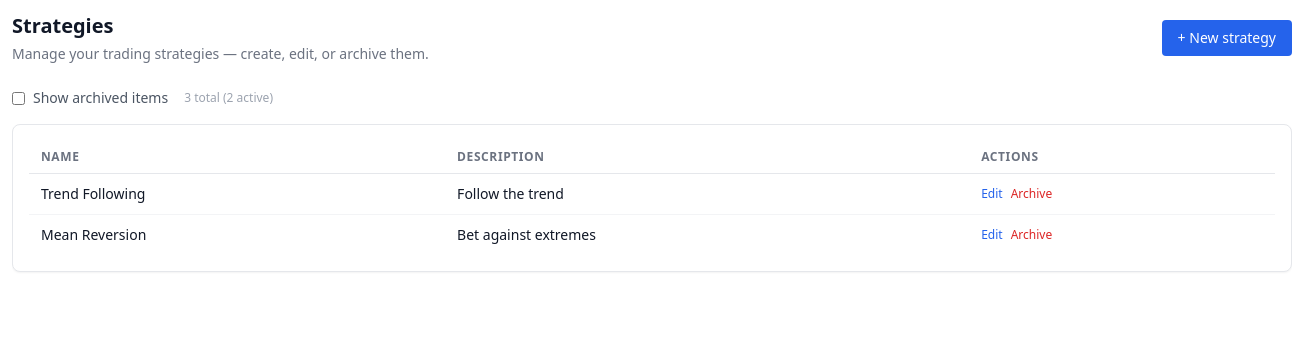
CatalogAdmin — F3: Archive removes from active list › shows error when archive fails
This screenshot has width=1304, height=351.
What coordinates should you click on to do the following:
click the button "Archive" in the row of "Trend Following"
I would click on:
 (1031, 194)
Its box is [1011,186,1052,202].
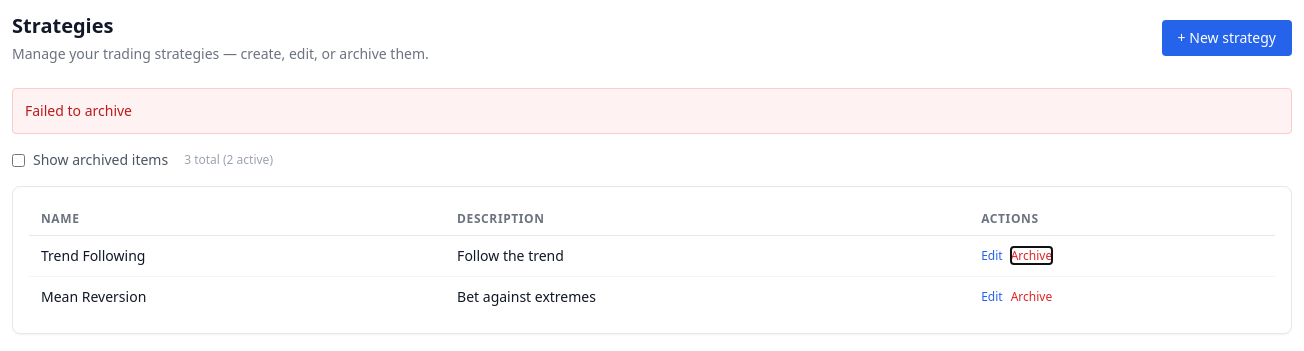
expect the text "Failed to archive" is shown: met, box [12,88,1292,134]
